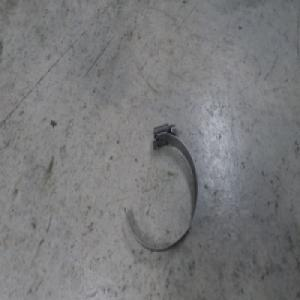AdjustableClamp: (122, 123, 198, 251)
